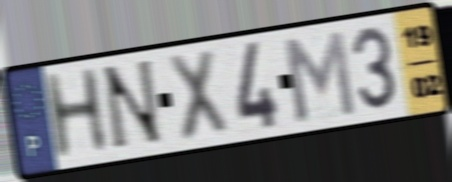3: (349, 23, 398, 115)
4: (233, 39, 282, 135)
H: (39, 64, 112, 165)
M: (278, 27, 359, 125)
N: (99, 56, 167, 156)
X: (165, 45, 232, 146)
